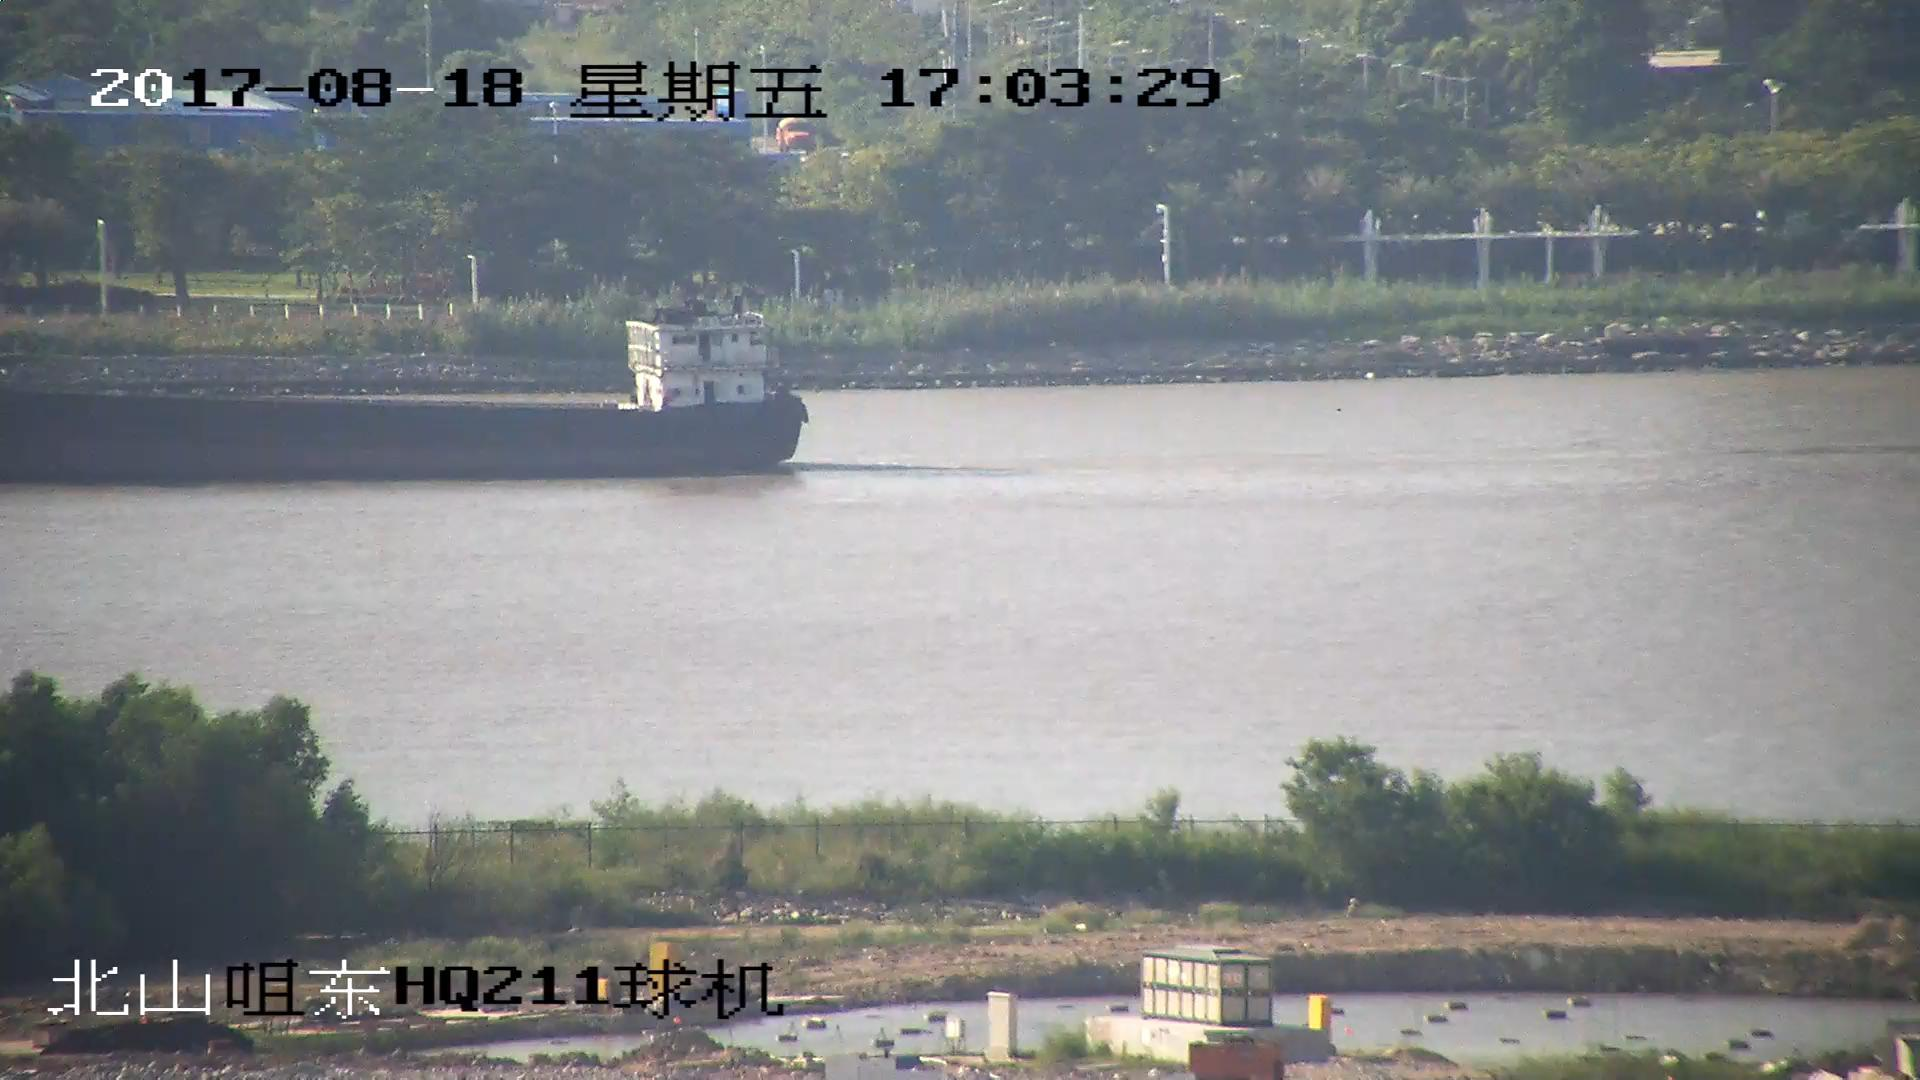Ship: (3, 306, 811, 473)
